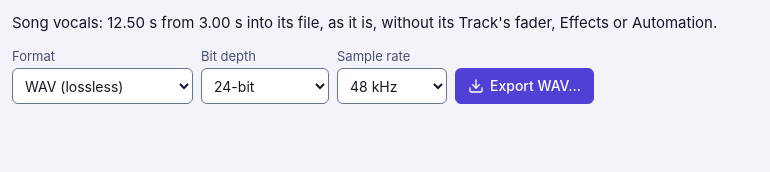
an MP3 exports at the bitrate chosen
Select "MP3 (compressed)" in the dropdown labelled "Format". click: (102, 86)
box: [12,68,193,104]
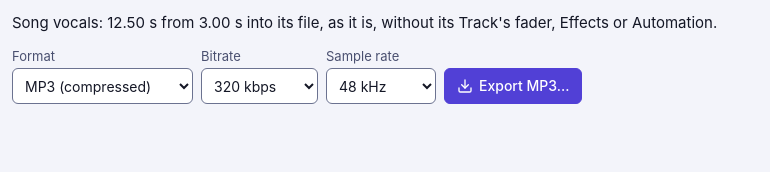
Select "256 kbps" in the dropdown labelled "Bitrate". click: (260, 86)
box: [201,68,318,104]
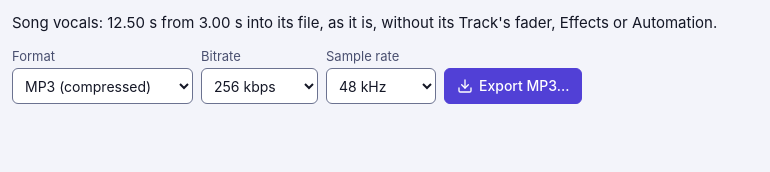
Click the button "Export MP3…". click: (513, 86)
box: [444,68,582,104]
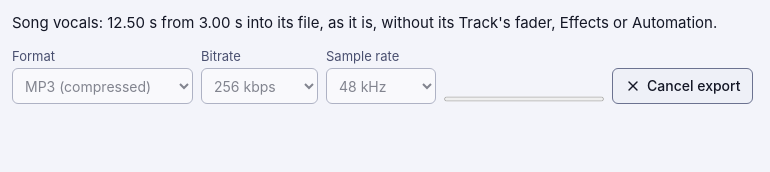
Now the progress indicator named "Export progress" is shown, box [444,94,604,104]
